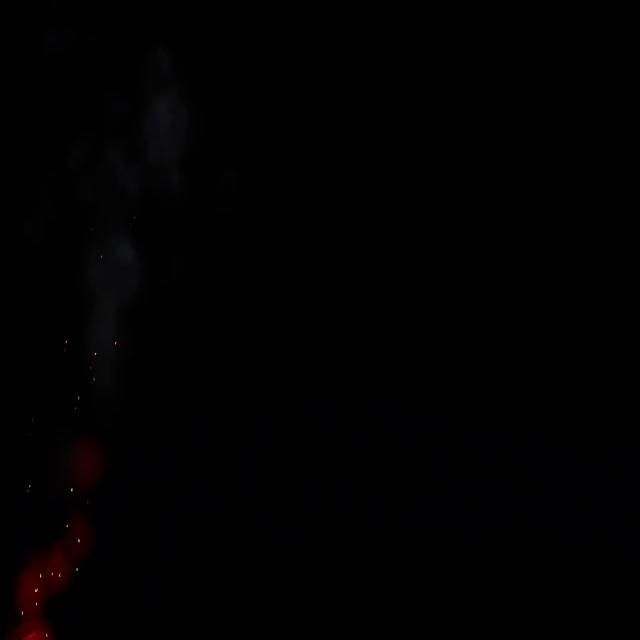smoke: (4, 475, 88, 640)
